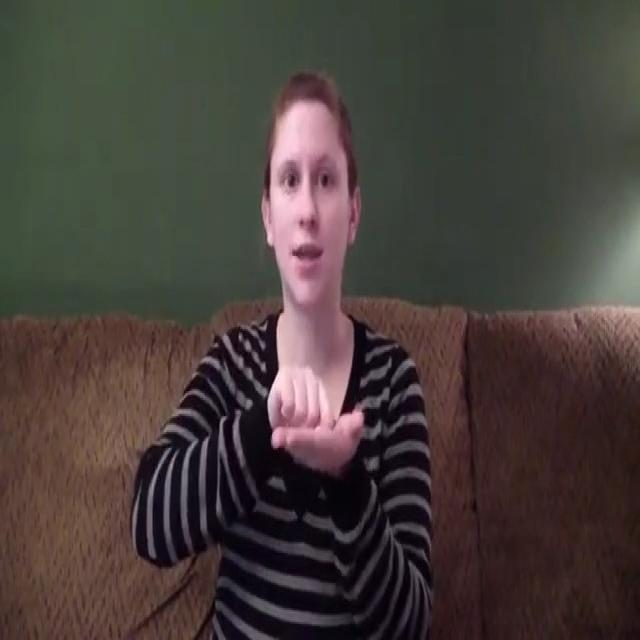chicken: (255, 336, 373, 486)
